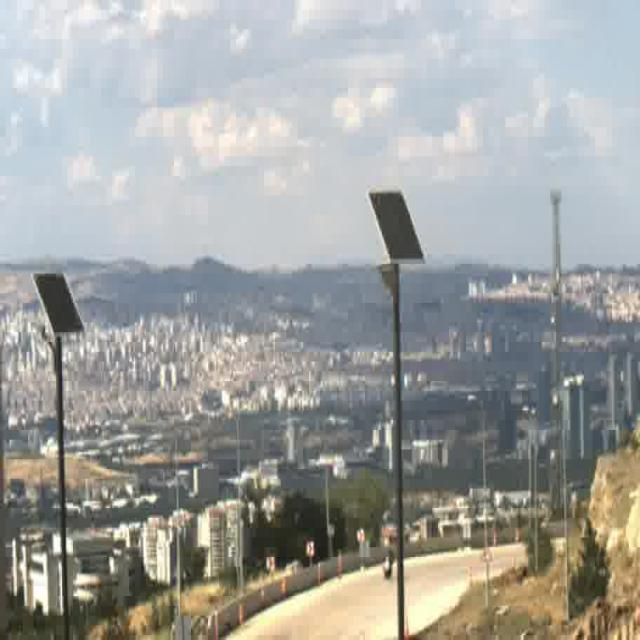Motorcycle: (382, 546, 393, 576)
